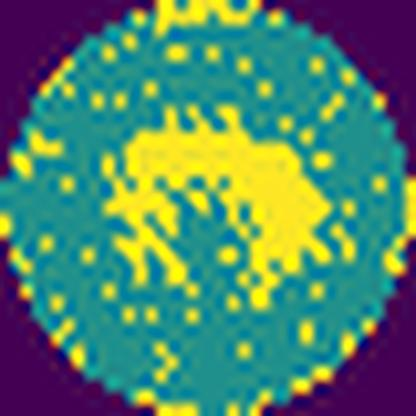Donut: (88, 100, 358, 316)
